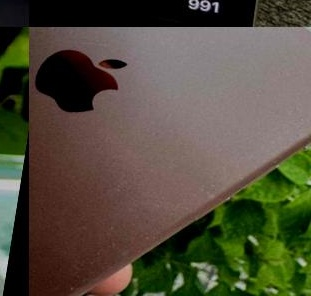scratch: (29, 204, 134, 296)
